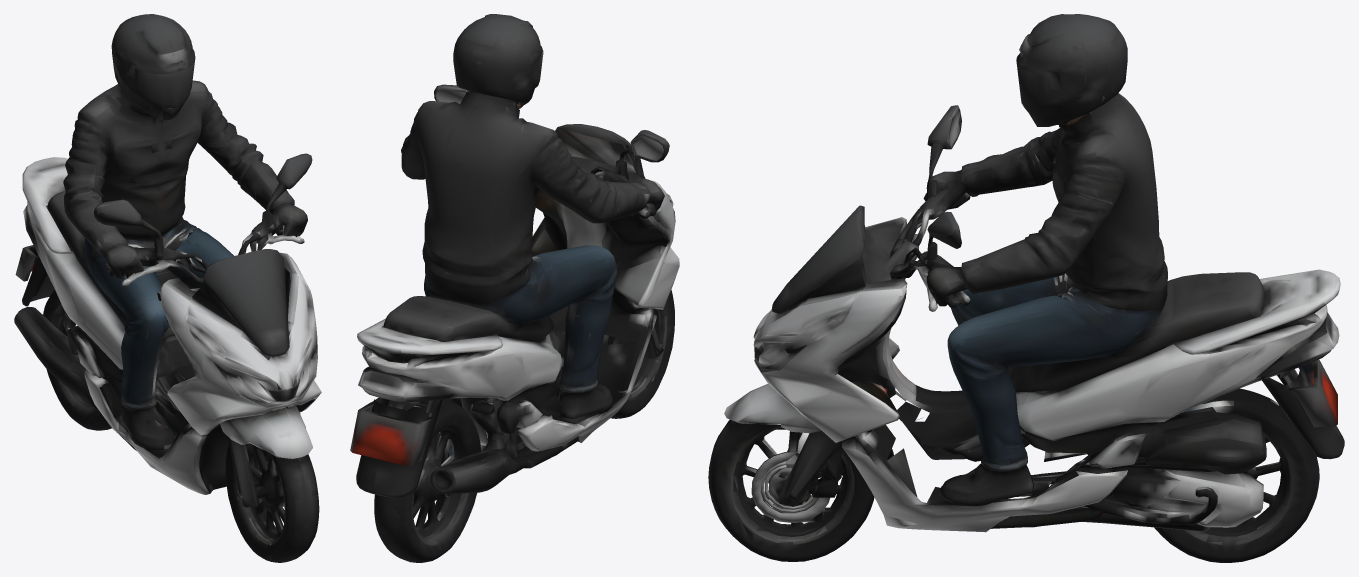
The model's file is pcx.glb.
The picture shows the model from 3 angles, left to right: view 1: azimuth 30°, elevation 25°; view 2: azimuth 150°, elevation 25°; view 3: azimuth 270°, elevation 25°; orthographic projection. The views are drawn at different scales.
Parts seen in each view (by area): view 1: tripo_node_4c8b07a1; view 2: tripo_node_4c8b07a1; view 3: tripo_node_4c8b07a1.
Boxes of the visible parts, x1,y1,x2,y2 form: tripo_node_4c8b07a1: (14, 14, 321, 562); tripo_node_4c8b07a1: (350, 14, 679, 562); tripo_node_4c8b07a1: (708, 14, 1344, 562).
Size of the model in its own units: 47.18 by 93.52 by 100.
1 material, 1 textured.
